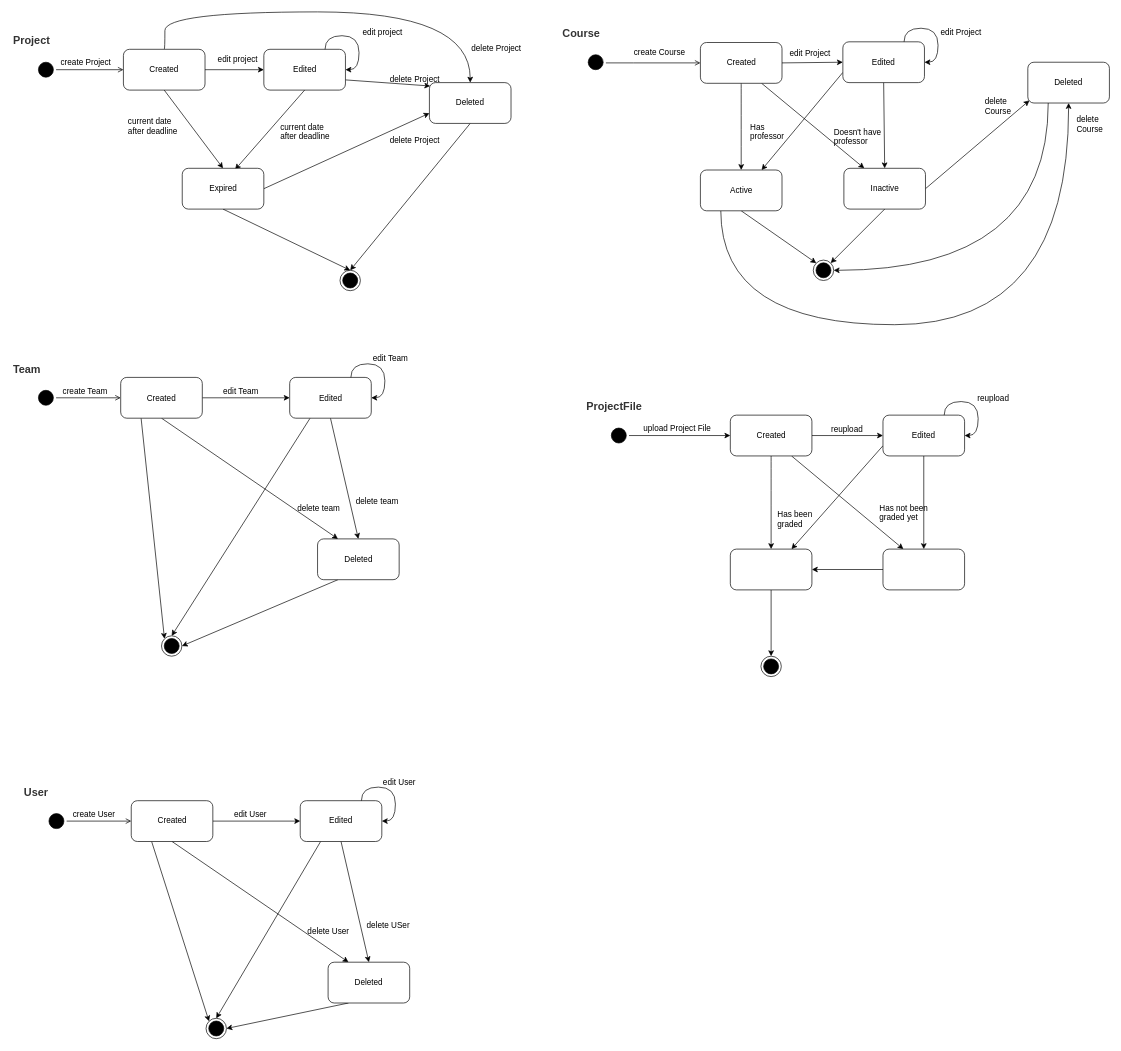
Some shapes in this 1121 by 1051 pixel diagram are drawn without their labels. The shapes that lost their labels are listed below. From the top down, each one's centre as x and y in pixels, then its label:
the point at 771,569: Graded
the point at 923,569: Grading pending
